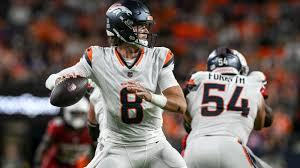americanFootball: (49, 78, 87, 107)
